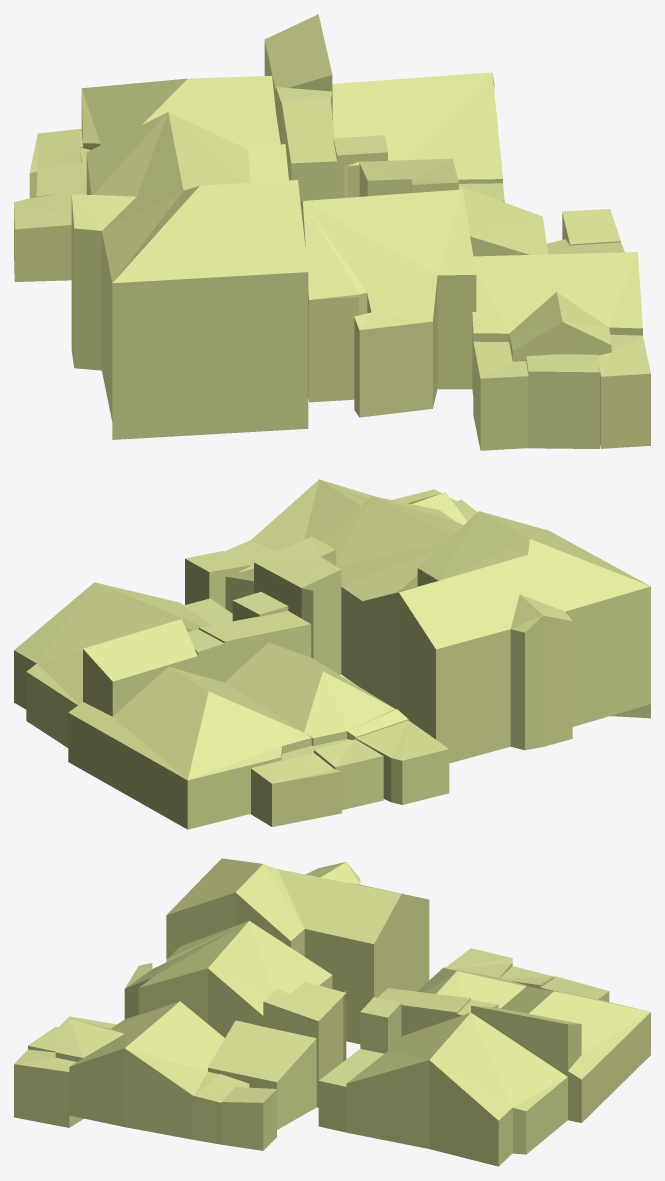
The model's file is glb.glb.
3 views of the same model, one above another, from view 1: azimuth 30°, elevation 25°; view 2: azimuth 150°, elevation 25°; view 3: azimuth 270°, elevation 25° (orthographic). The views are drawn at different scales.
Visible parts, largest first — view 1: LOD2_ThreeBuilding DMS LOD2_ThreeBuilding; view 2: LOD2_ThreeBuilding DMS LOD2_ThreeBuilding; view 3: LOD2_ThreeBuilding DMS LOD2_ThreeBuilding.
Part boxes in pixels (x1=…): LOD2_ThreeBuilding DMS LOD2_ThreeBuilding: x1=14, y1=14, x2=650, y2=450; LOD2_ThreeBuilding DMS LOD2_ThreeBuilding: x1=14, y1=479, x2=650, y2=829; LOD2_ThreeBuilding DMS LOD2_ThreeBuilding: x1=14, y1=858, x2=650, y2=1166.
Bounding box in the file's own units: 35.06 × 12.09 × 46.
